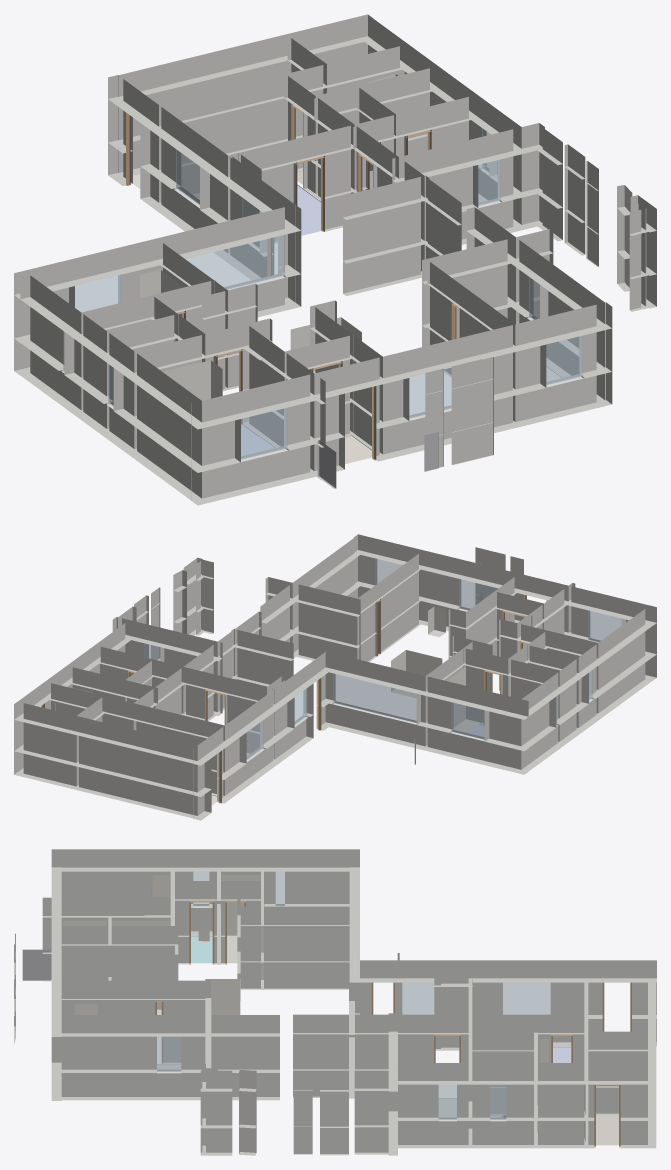
3 renders of one model, top to bottom at view 1: azimuth 30°, elevation 25°; view 2: azimuth 150°, elevation 25°; view 3: azimuth 270°, elevation 25°, orthographic. The views are drawn at different scales.
Parts seen in each view (by area): view 1: walls, window_9, window_3, window_16, furniture_4_closet, window_0, railings, window_2, window_24, window_6, floor_2_Bed_Room, furniture_2_closet; view 2: walls, window_9, window_0, furniture_19_fireplace, window_3, window_2, furniture_2_closet, window_6, furniture_12_appliance; view 3: walls, window_6, window_8, furniture_19_fireplace, railings, furniture_3_closet, window_27, floor_1_Storage, window_18, window_26, floor_9_Bath, furniture_4_closet.
Boxes of the visible parts, bbox=[...] form: walls: bbox=[14, 14, 656, 505]; window_9: bbox=[185, 232, 284, 289]; window_3: bbox=[241, 408, 287, 459]; window_16: bbox=[543, 336, 582, 385]; furniture_4_closet: bbox=[162, 360, 222, 400]; window_0: bbox=[75, 272, 121, 312]; railings: bbox=[317, 432, 438, 488]; window_2: bbox=[406, 363, 457, 418]; window_24: bbox=[475, 159, 500, 205]; window_6: bbox=[176, 149, 204, 205]; floor_2_Bed_Room: bbox=[195, 184, 320, 235]; furniture_2_closet: bbox=[140, 269, 184, 316]; walls: bbox=[14, 534, 656, 820]; window_9: bbox=[333, 673, 417, 722]; window_0: bbox=[451, 702, 484, 739]; furniture_19_fireplace: bbox=[391, 650, 442, 697]; window_3: bbox=[588, 610, 621, 642]; window_2: bbox=[459, 579, 498, 610]; furniture_2_closet: bbox=[447, 667, 489, 732]; window_6: bbox=[245, 716, 263, 759]; furniture_12_appliance: bbox=[428, 606, 445, 637]; walls: bbox=[14, 849, 656, 1155]; window_6: bbox=[503, 982, 550, 1014]; window_8: bbox=[402, 982, 434, 1014]; furniture_19_fireplace: bbox=[205, 979, 240, 1014]; railings: bbox=[15, 949, 399, 1040]; furniture_3_closet: bbox=[220, 875, 260, 962]; window_27: bbox=[157, 1036, 181, 1071]; floor_1_Storage: bbox=[596, 1115, 618, 1145]; window_18: bbox=[438, 1084, 456, 1119]; window_26: bbox=[490, 1084, 506, 1119]; floor_9_Bath: bbox=[191, 935, 212, 963]; furniture_4_closet: bbox=[151, 875, 170, 897].
Size of the model in its own units: 15.85 by 2.72 by 19.18.
